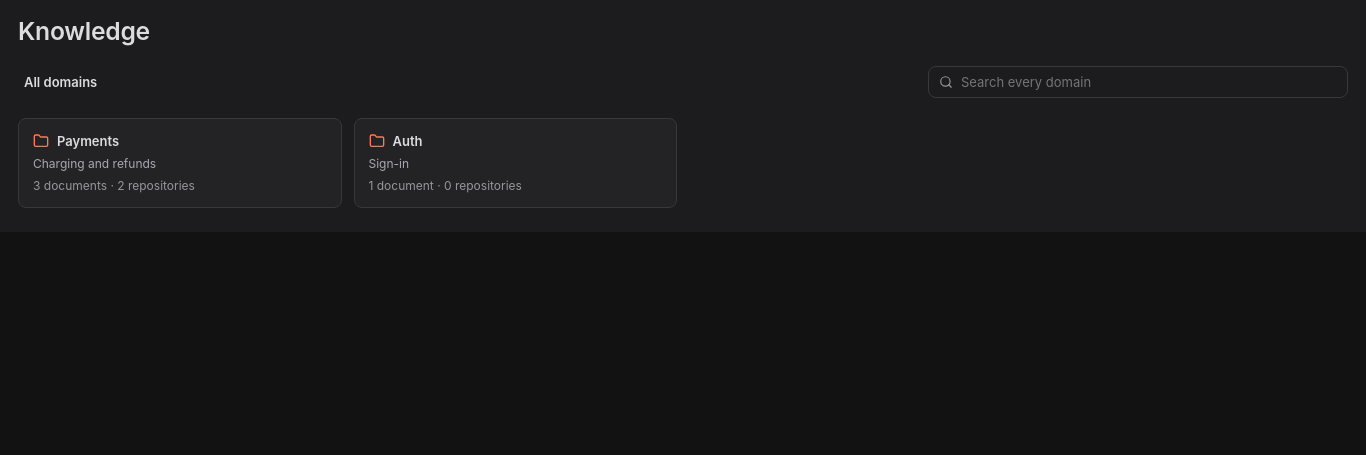
Test: KnowledgePage › searches every domain's titles, leads, ids and kinds, keeping only the domains with a match
The width and height of the screenshot is (1366, 455).
Click the button "Payments Charging and refunds 3 documents · 2 repositories" at [88, 141], box [18,118,342,208]
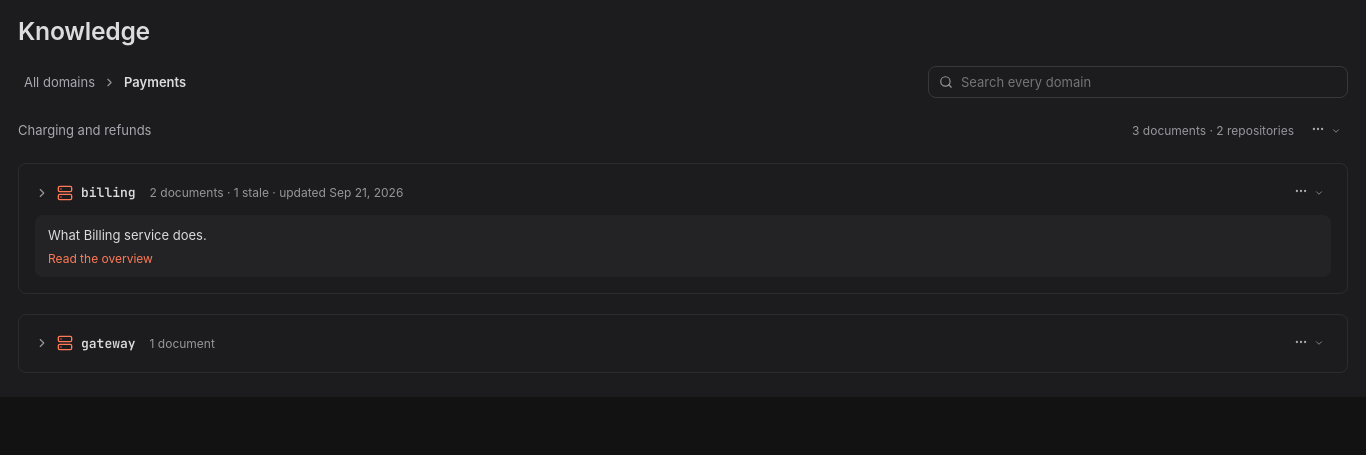
Type "retry" into the search field named "Search the knowledge base" at [1149, 82], box [961,74,1337,90]
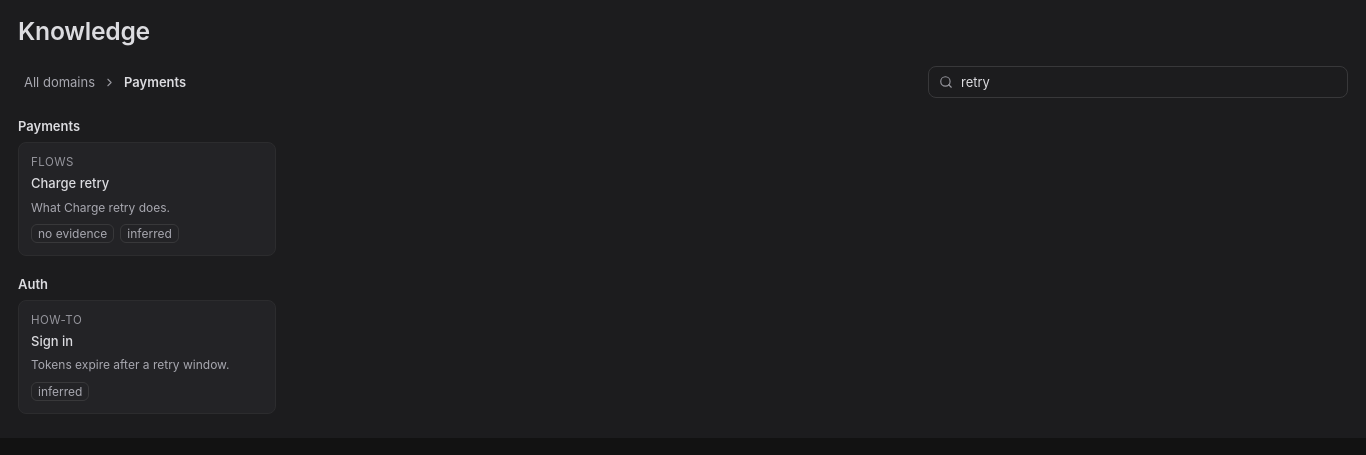
Expected: the option "Refunds API" is not shown
Expected: the option "Charge retry" is shown, [18,142,276,256]
Expected: the option "How-to Sign in Tokens expire after a retry window. inferred" is shown, [18,300,276,414]
Replace the text in the search field named "Search the knowledge base" with "refunds" at [1149, 82], box [961,74,1337,90]
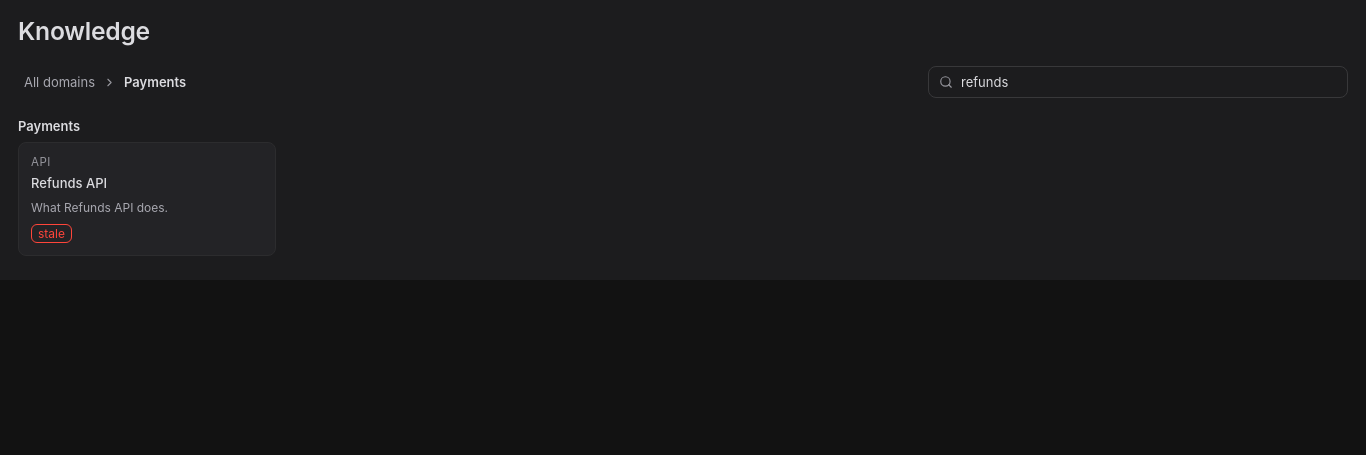
Expected: the heading "Auth" is gone
Replace the text in the search field named "Search the knowledge base" with "flows" at [1149, 82], box [961,74,1337,90]
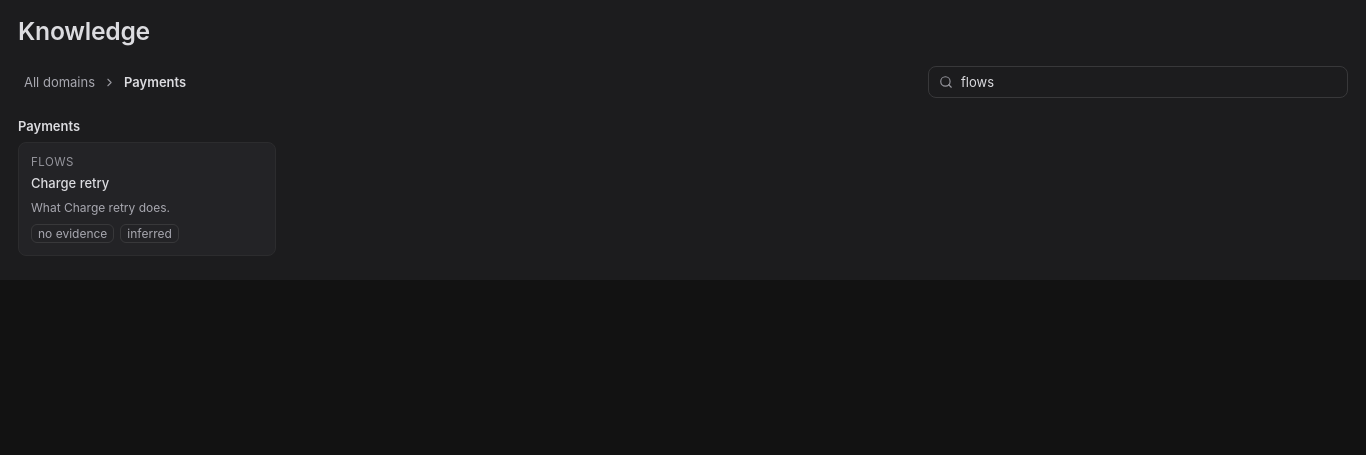
Expected: the option "Charge retry" is shown, [18,142,276,256]
Replace the text in the search field named "Search the knowledge base" with "nothing like it" at [1149, 82], box [961,74,1337,90]
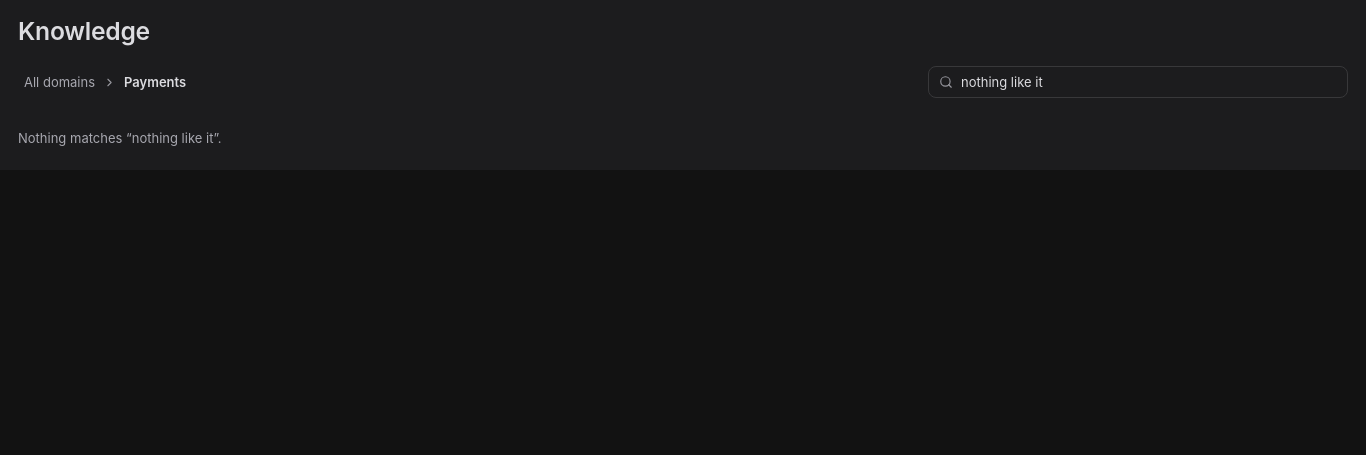
Expected: the text "Nothing matches “nothing like it”." is shown, [18,130,222,146]
